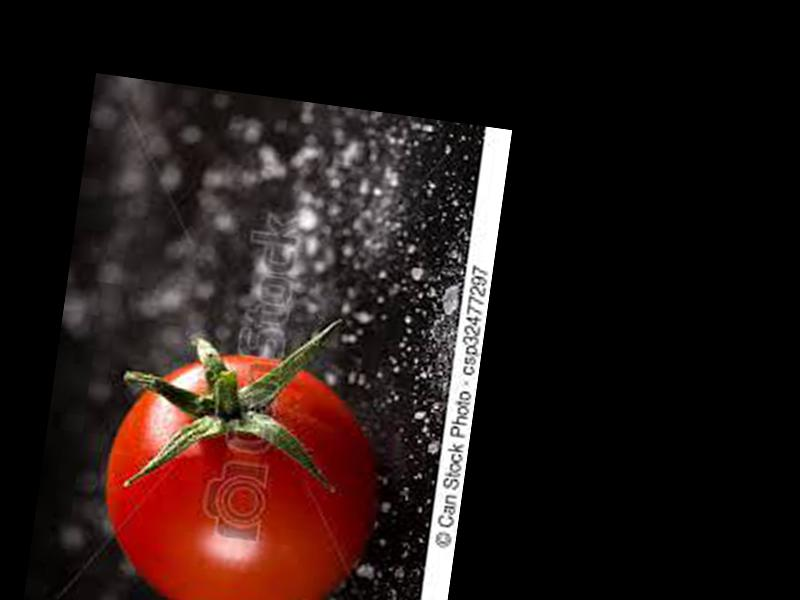Tomato: (88, 338, 391, 600)
